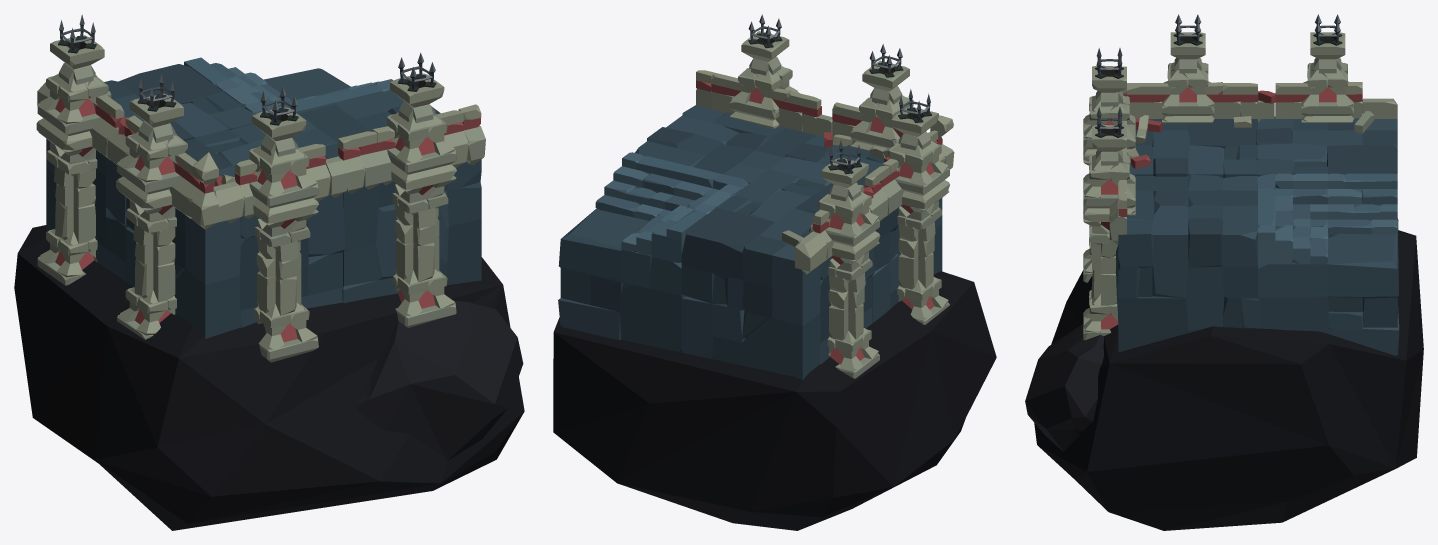
The model's file is platform_corner_conc.fbx.
3 views of the same model, side by side, from view 1: azimuth 30°, elevation 25°; view 2: azimuth 150°, elevation 25°; view 3: azimuth 270°, elevation 25° (orthographic). The views are drawn at different scales.
Parts seen in each view (by area): view 1: platform_corner_conc; view 2: platform_corner_conc; view 3: platform_corner_conc.
Part boxes in pixels (x1=…): platform_corner_conc: x1=14, y1=14, x2=524, y2=530; platform_corner_conc: x1=553, y1=14, x2=996, y2=530; platform_corner_conc: x1=1025, y1=14, x2=1423, y2=530.
Bounding box in the file's own units: 1081 × 1338 × 1142.
